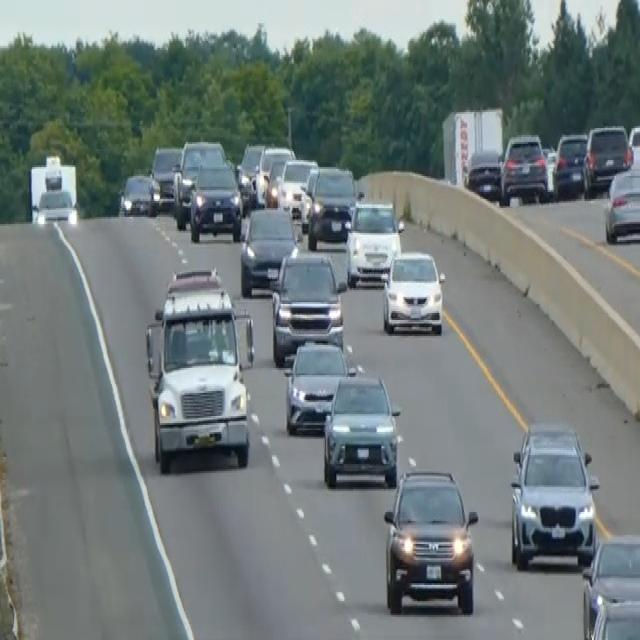car: (382, 464, 479, 615), (508, 418, 599, 569), (321, 366, 401, 487), (270, 249, 346, 363), (282, 336, 348, 436), (580, 532, 639, 638), (381, 247, 445, 336), (239, 203, 298, 297), (344, 196, 404, 288), (172, 137, 225, 227), (188, 160, 243, 242), (306, 163, 358, 249), (499, 132, 548, 204), (583, 122, 631, 194), (603, 160, 639, 244), (277, 155, 318, 224), (254, 144, 295, 203), (552, 130, 588, 197), (150, 143, 183, 205), (464, 146, 502, 199), (119, 169, 160, 217), (237, 138, 265, 204), (34, 187, 76, 226), (627, 121, 639, 167)
lorry: (143, 265, 256, 473)
